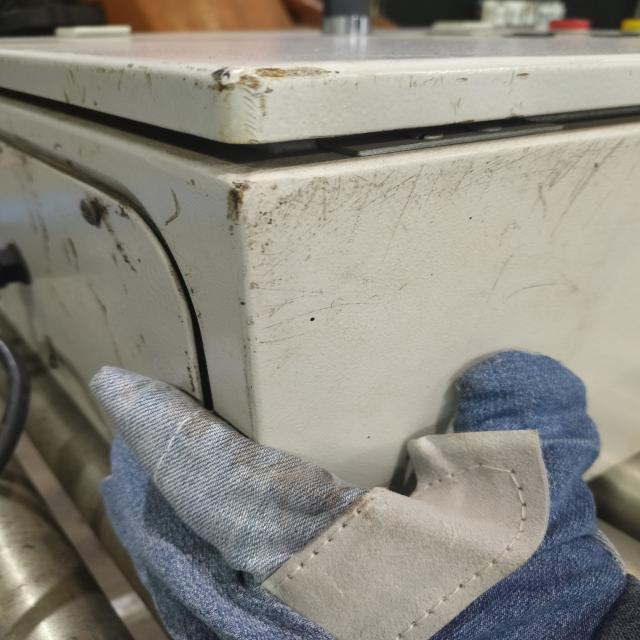Gloves-Detection: (96, 354, 640, 640)
